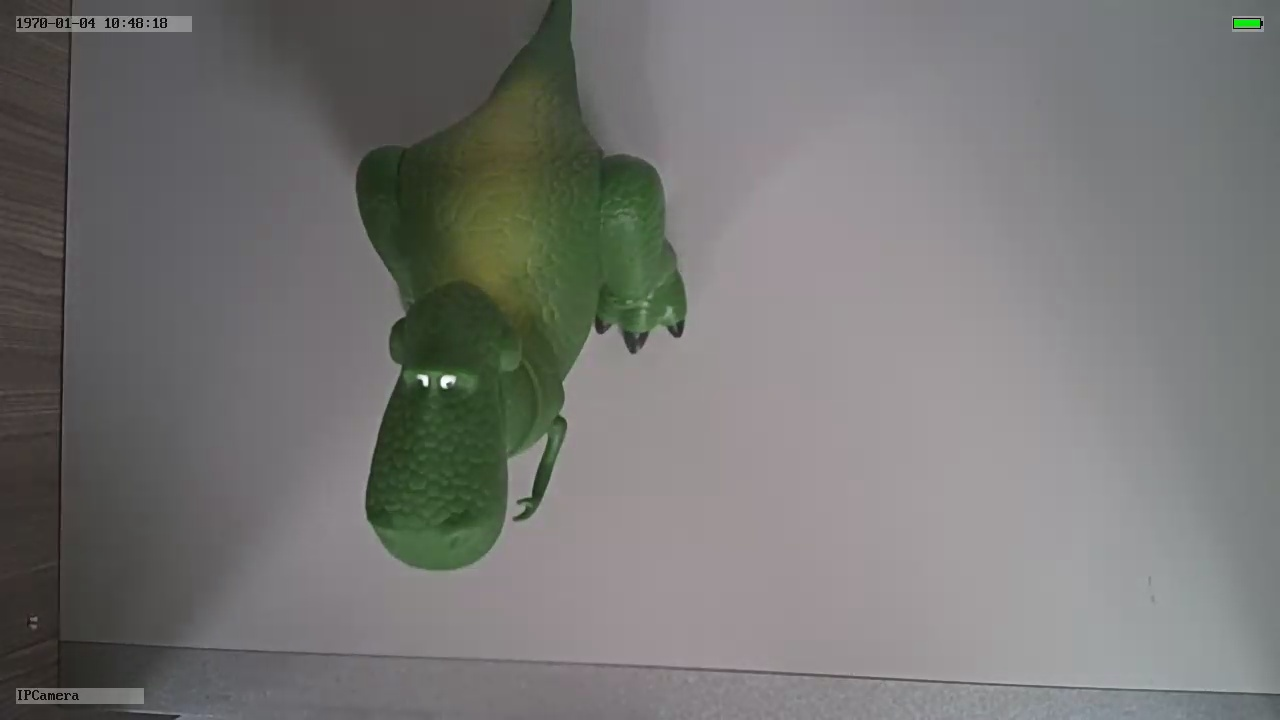rex: (355, 71, 690, 571)
